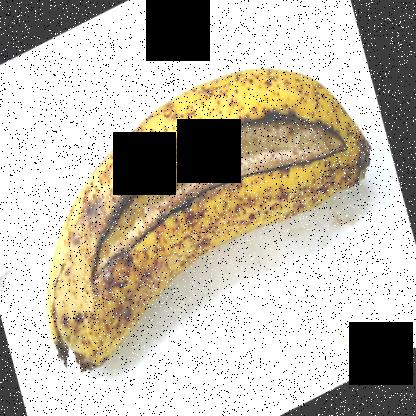rotten: (70, 84, 355, 296)
